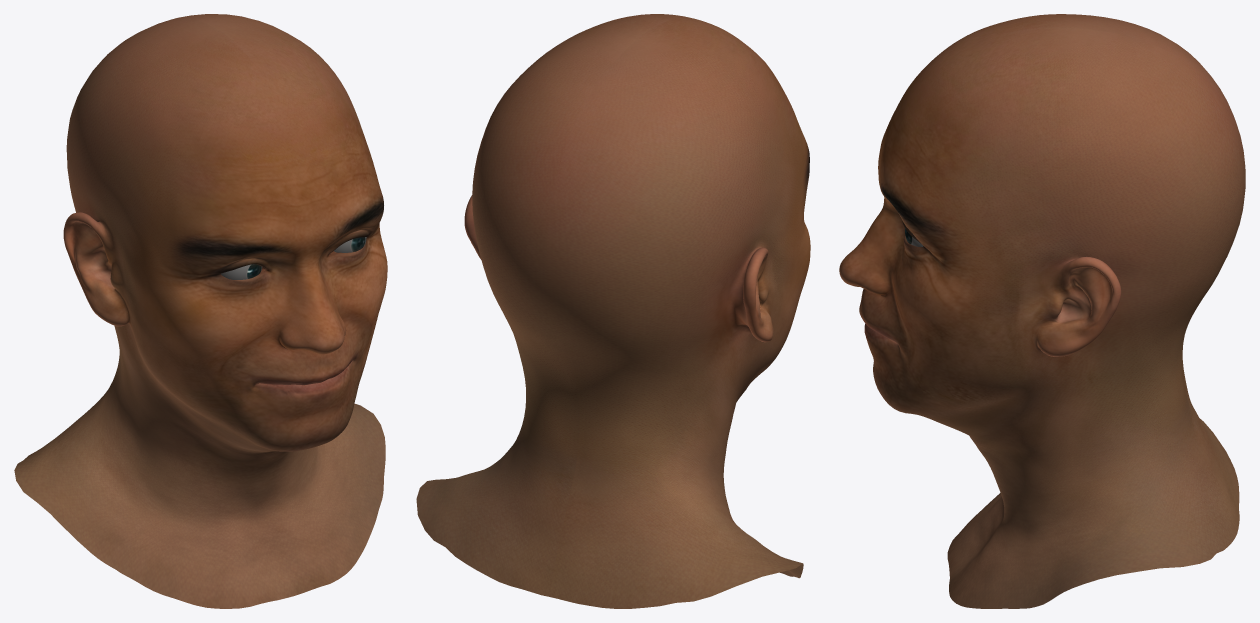
The picture shows the model from 3 angles, left to right: view 1: azimuth 30°, elevation 25°; view 2: azimuth 150°, elevation 25°; view 3: azimuth 270°, elevation 25°; orthographic projection. The views are drawn at different scales.
Visible parts, largest first — view 1: UnchangedNativeHead; view 2: UnchangedNativeHead; view 3: UnchangedNativeHead.
Part boxes in pixels (x1,y1,x2,y2): UnchangedNativeHead: (14, 14, 387, 608); UnchangedNativeHead: (416, 14, 810, 608); UnchangedNativeHead: (839, 14, 1245, 608).
Size of the model in its own units: 1.27 by 1.84 by 1.24.
Materials: 3 (3 with a texture image).
